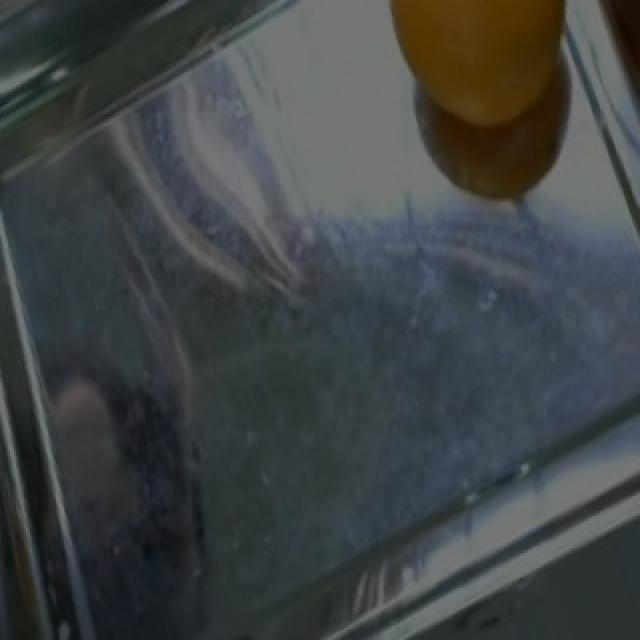Fruit: (356, 2, 602, 154)
